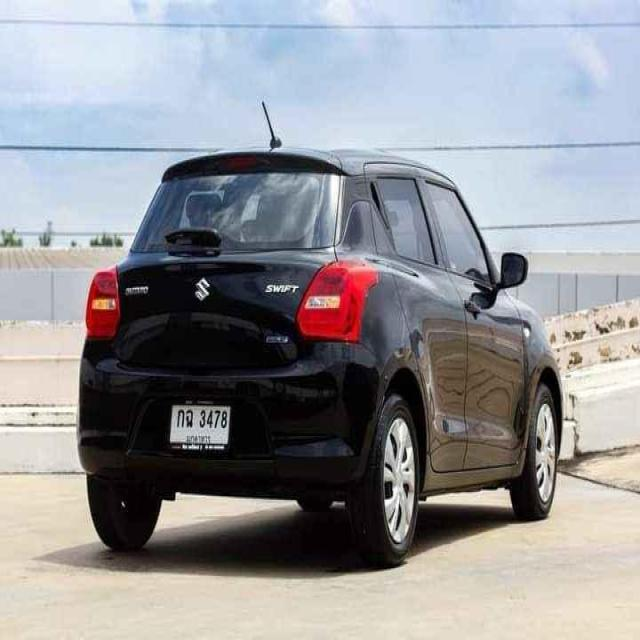Hatchback: (76, 139, 568, 571)
